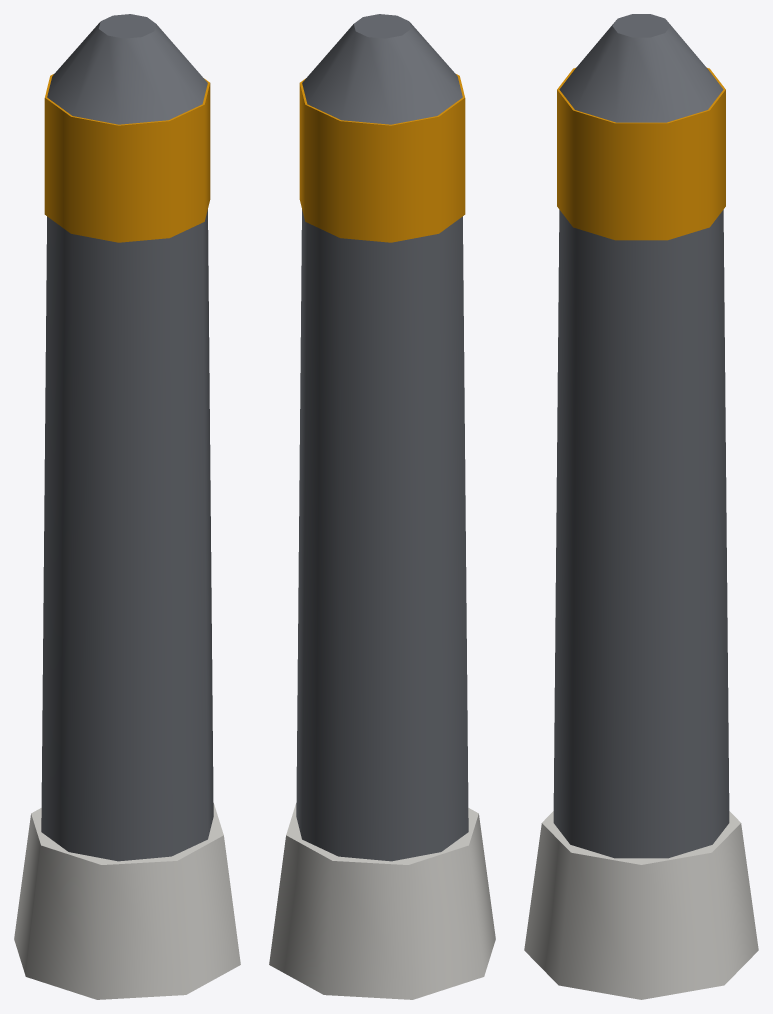
Rendered from SM_Bollard.fbx.
The picture shows the model from 3 angles, left to right: view 1: azimuth 30°, elevation 25°; view 2: azimuth 150°, elevation 25°; view 3: azimuth 270°, elevation 25°; orthographic projection.
Visible parts, largest first — view 1: SM_Bollard; view 2: SM_Bollard; view 3: SM_Bollard.
Part boxes in pixels (x1,y1,x2,y2): SM_Bollard: (14, 14, 240, 999); SM_Bollard: (269, 14, 495, 999); SM_Bollard: (524, 14, 758, 999).
Bounding box in the file's own units: 20 × 87 × 20.
